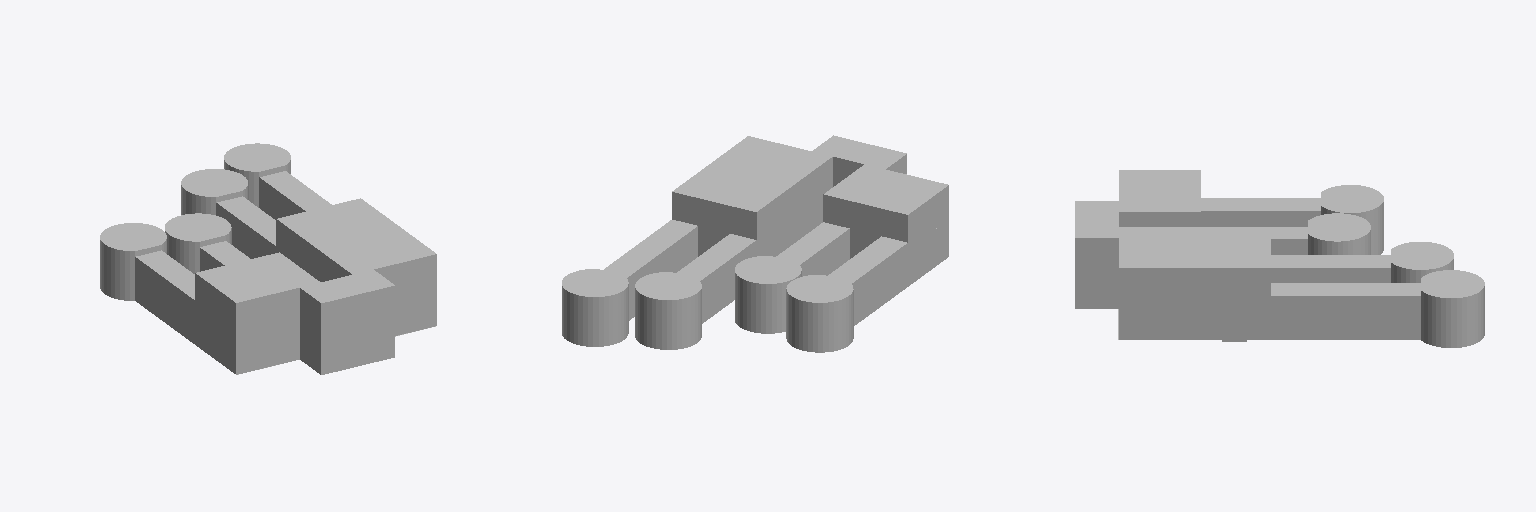
File: Tutorial.obj
The picture shows the model from 3 angles: view 1: azimuth 30°, elevation 25°; view 2: azimuth 150°, elevation 25°; view 3: azimuth 270°, elevation 25°; orthographic projection.
Parts seen in each view (by area): view 1: Level_Turotial_Turotial__Circle.000, Ceiling_Ceiling_Turotial__Circle.000; view 2: Level_Turotial_Turotial__Circle.000, Ceiling_Ceiling_Turotial__Circle.000; view 3: Level_Turotial_Turotial__Circle.000, Ceiling_Ceiling_Turotial__Circle.000.
Boxes of the visible parts, <box> form: Level_Turotial_Turotial__Circle.000: <box>100,160,436,374</box>; Ceiling_Ceiling_Turotial__Circle.000: <box>100,143,435,302</box>; Level_Turotial_Turotial__Circle.000: <box>562,154,948,352</box>; Ceiling_Ceiling_Turotial__Circle.000: <box>562,135,947,302</box>; Level_Turotial_Turotial__Circle.000: <box>1075,202,1484,347</box>; Ceiling_Ceiling_Turotial__Circle.000: <box>1075,170,1484,297</box>.
Size of the model in its own units: 44 by 13.2 by 67.11.